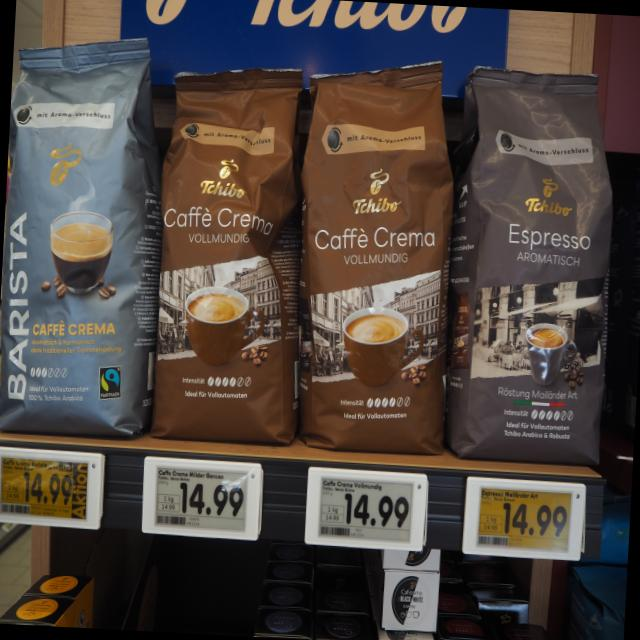Barista CC: (0, 25, 170, 442)
CC Vollmundig 36 Pads: (282, 50, 468, 460), (145, 58, 317, 450)
Espresso Aromatisch: (438, 59, 626, 470)
